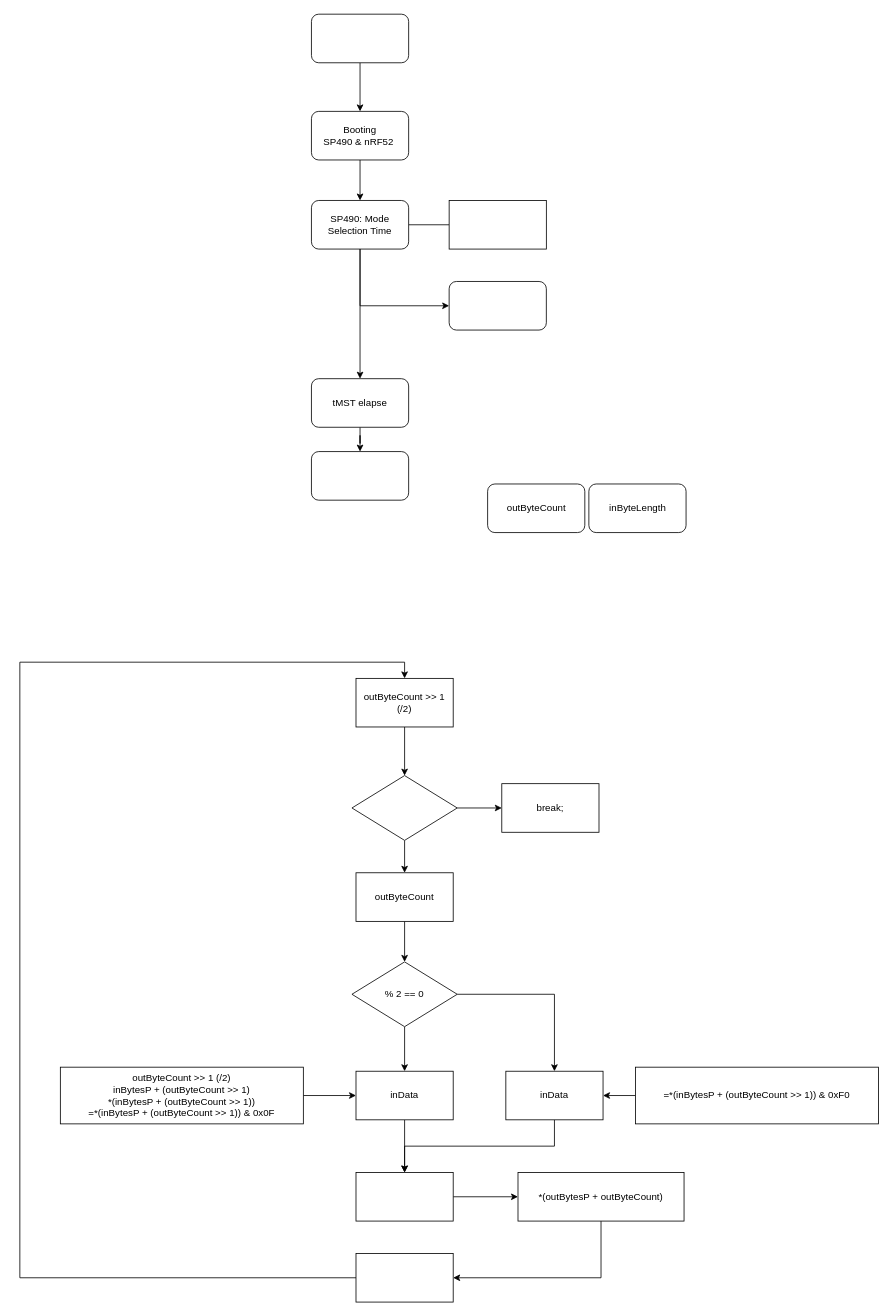
Image size: 893x1316. Some labels were removed from this diagram. Here are the shapes that lost their labels. From the top down, the box of each, then its label:
(311, 13, 409, 63): Power ON
(448, 200, 546, 249): Default I2C config (PP0, PP1)
(448, 281, 546, 330): nRF52 enter Programming mode
(311, 451, 409, 500): SP490 Normal Mode
(351, 775, 457, 840): >= inByteLength
(355, 1172, 453, 1221): hamming_8_4_enc
(355, 1253, 453, 1302): outByteCount++
